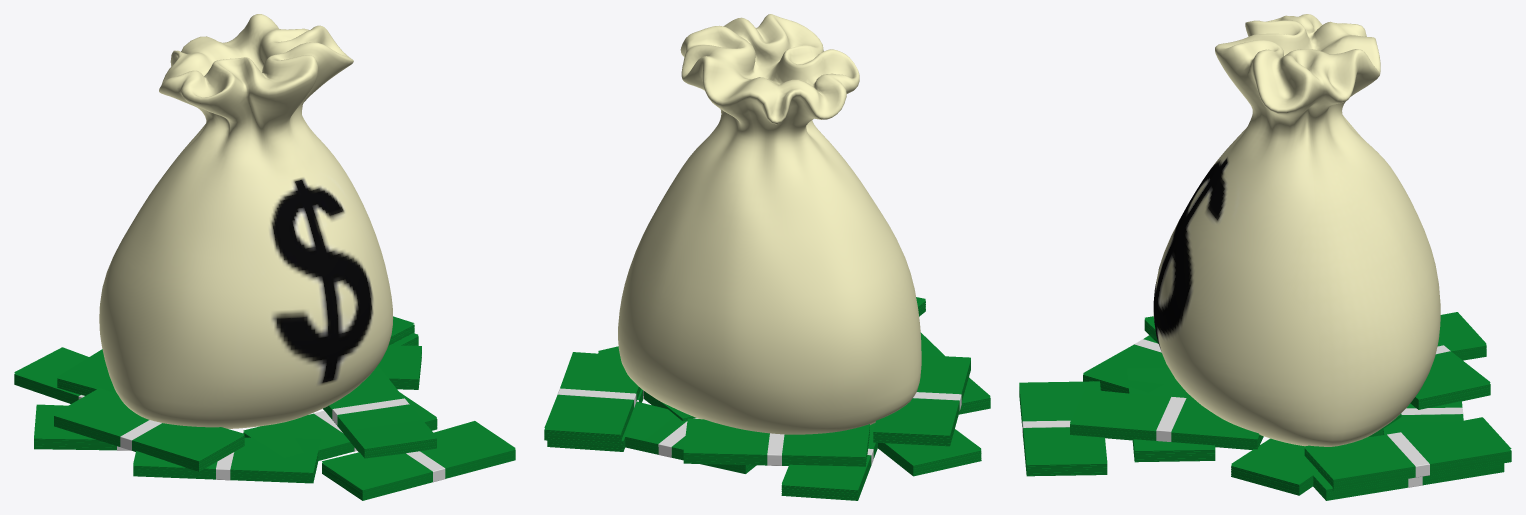
File: money_bag.fbx
3 views of the same model, side by side, from view 1: azimuth 30°, elevation 25°; view 2: azimuth 150°, elevation 25°; view 3: azimuth 270°, elevation 25° (orthographic). The views are drawn at different scales.
Visible parts, largest first — view 1: Money_Sack_A_small002, pasted__pasted__polySurface3 (×4), pasted__pasted__pasted__polySurface3 (×3), pasted__pasted__polySurface1 (×3), pasted__pasted__pasted__polySurface1 (×2), pasted__pasted__polySurface4, pasted__polySurface3, polySurface3, polySurface1, pasted__pasted__polySurface2, pasted__polySurface1; view 2: Money_Sack_A_small002, pasted__pasted__pasted__polySurface3 (×4), pasted__pasted__pasted__polySurface1 (×5), pasted__pasted__polySurface3 (×2), pasted__pasted__polySurface1 (×2), pasted__pasted__pasted__polySurface2 (×2), polySurface3; view 3: Money_Sack_A_small002, pasted__pasted__polySurface3 (×4), pasted__pasted__pasted__polySurface3 (×2), pasted__pasted__polySurface1 (×4), pasted__pasted__pasted__polySurface1 (×3), pasted__pasted__polySurface4, polySurface3, pasted__polySurface3, pasted__polySurface1, pasted__pasted__polySurface2, pasted__pasted__pasted__polySurface2.
Part boxes in pixels (box(x1,y1,x2,y2)): Money_Sack_A_small002: box(99, 14, 393, 428); pasted__pasted__polySurface3 (×4): box(14, 345, 515, 488); pasted__pasted__pasted__polySurface3 (×3): box(34, 349, 244, 459); pasted__pasted__polySurface1 (×3): box(14, 374, 515, 500); pasted__pasted__pasted__polySurface1 (×2): box(34, 415, 244, 471); pasted__pasted__polySurface4: box(329, 370, 436, 447); pasted__polySurface3: box(243, 392, 436, 457); polySurface3: box(133, 437, 320, 471); polySurface1: box(133, 452, 318, 483); pasted__pasted__polySurface2: box(332, 398, 409, 425); pasted__polySurface1: box(243, 418, 437, 460); Money_Sack_A_small002: box(618, 14, 921, 434); pasted__pasted__pasted__polySurface3 (×4): box(544, 352, 980, 463); pasted__pasted__pasted__polySurface1 (×5): box(544, 360, 981, 476); pasted__pasted__polySurface3 (×2): box(625, 401, 875, 488); pasted__pasted__polySurface1 (×2): box(625, 415, 877, 500); pasted__pasted__pasted__polySurface2 (×2): box(557, 388, 784, 465); polySurface3: box(920, 332, 989, 401); Money_Sack_A_small002: box(1153, 14, 1440, 446); pasted__pasted__polySurface3 (×4): box(1019, 312, 1485, 482); pasted__pasted__pasted__polySurface3 (×2): box(1305, 341, 1511, 477); pasted__pasted__polySurface1 (×4): box(1019, 386, 1463, 495); pasted__pasted__pasted__polySurface1 (×3): box(1304, 351, 1511, 500); pasted__pasted__polySurface4: box(1070, 394, 1257, 437); polySurface3: box(1083, 335, 1168, 392); pasted__polySurface3: box(1127, 368, 1215, 449); pasted__polySurface1: box(1129, 391, 1215, 462); pasted__pasted__polySurface2: box(1156, 397, 1186, 441); pasted__pasted__pasted__polySurface2: box(1387, 432, 1429, 477).
Size of the model in its own units: 9.82 by 8.61 by 10.1.
Materials: 25 (1 with a texture image).
